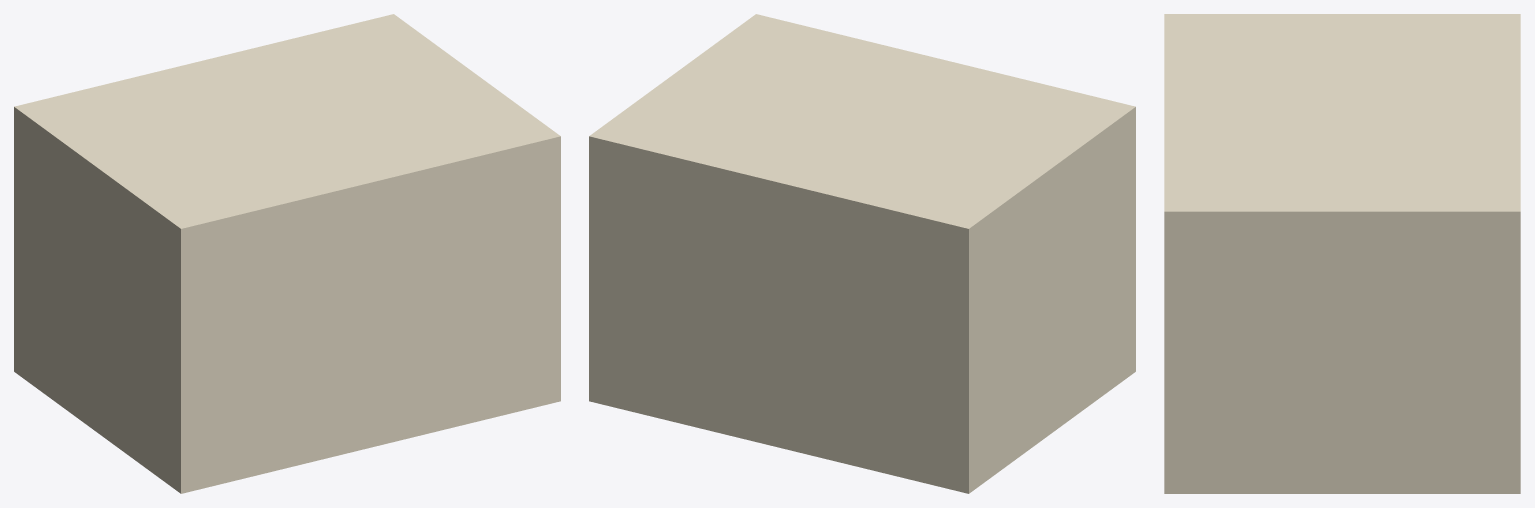
The picture shows the model from 3 angles, left to right: view 1: azimuth 30°, elevation 25°; view 2: azimuth 150°, elevation 25°; view 3: azimuth 270°, elevation 25°; orthographic projection. The views are drawn at different scales.
Parts seen in each view (by area): view 1: lod3-envelope; view 2: lod3-envelope; view 3: lod3-envelope.
Boxes of the visible parts, box(x1,y1,x2,y2) form: lod3-envelope: box(14, 14, 560, 493); lod3-envelope: box(589, 14, 1135, 493); lod3-envelope: box(1164, 14, 1520, 493).
Size of the model in its own units: 10.5 by 7 by 8.
